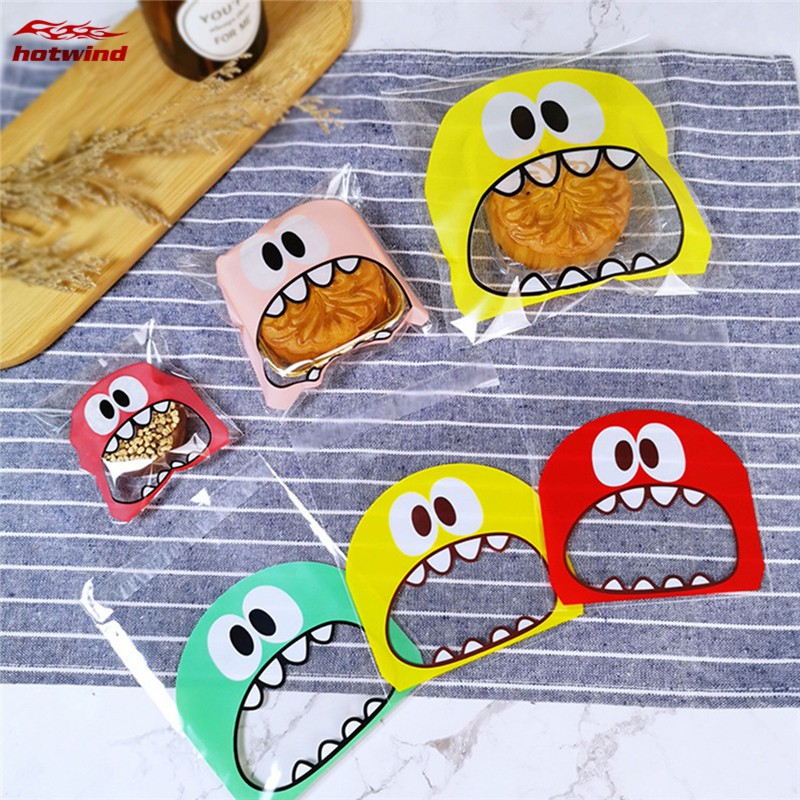Snack: (373, 37, 741, 356)
